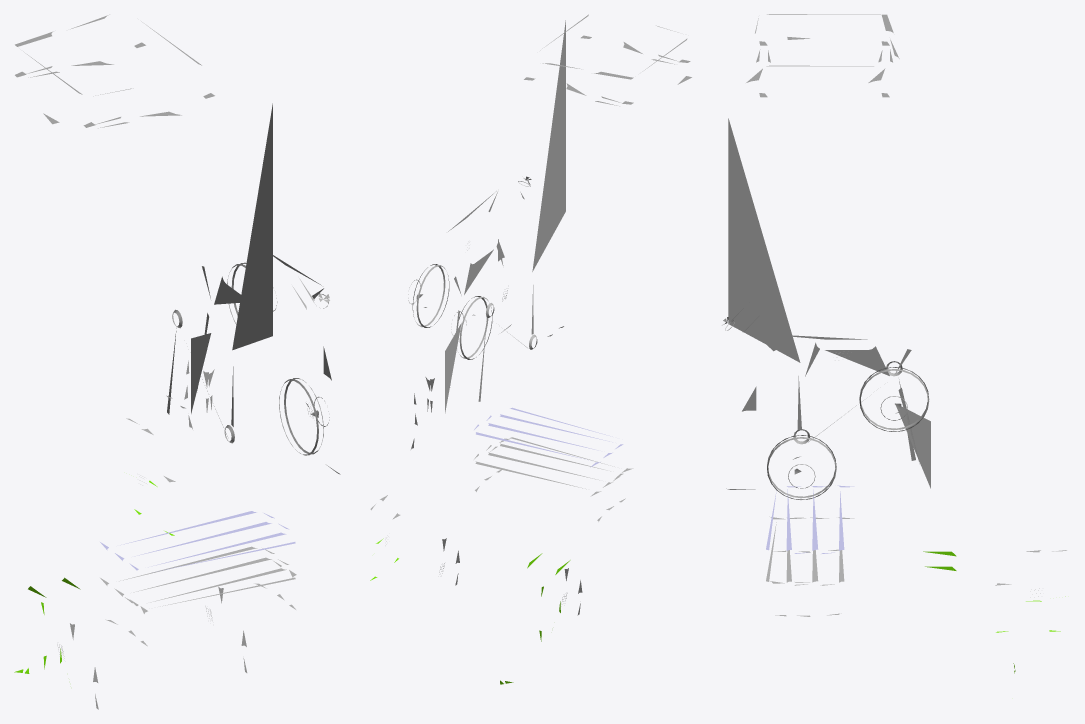
3 renders of one model, left to right at view 1: azimuth 30°, elevation 25°; view 2: azimuth 150°, elevation 25°; view 3: azimuth 270°, elevation 25°, orthographic. The views are drawn at different scales.
Visible parts, largest first — view 1: F19721000063102000141_001_zb_ub_auflage_41_fa (×3); view 2: F19721000063102000141_001_zb_ub_auflage_41_fa (×3); view 3: F19721000063102000141_001_zb_ub_auflage_41_fa (×3).
Part boxes in pixels (x1=…): F19721000063102000141_001_zb_ub_auflage_41_fa (×3): x1=15, y1=14, x2=340, y2=709; F19721000063102000141_001_zb_ub_auflage_41_fa (×3): x1=370, y1=14, x2=691, y2=615; F19721000063102000141_001_zb_ub_auflage_41_fa (×3): x1=722, y1=14, x2=1066, y2=616.
Size of the model in its own units: 163 by 200 by 410.
